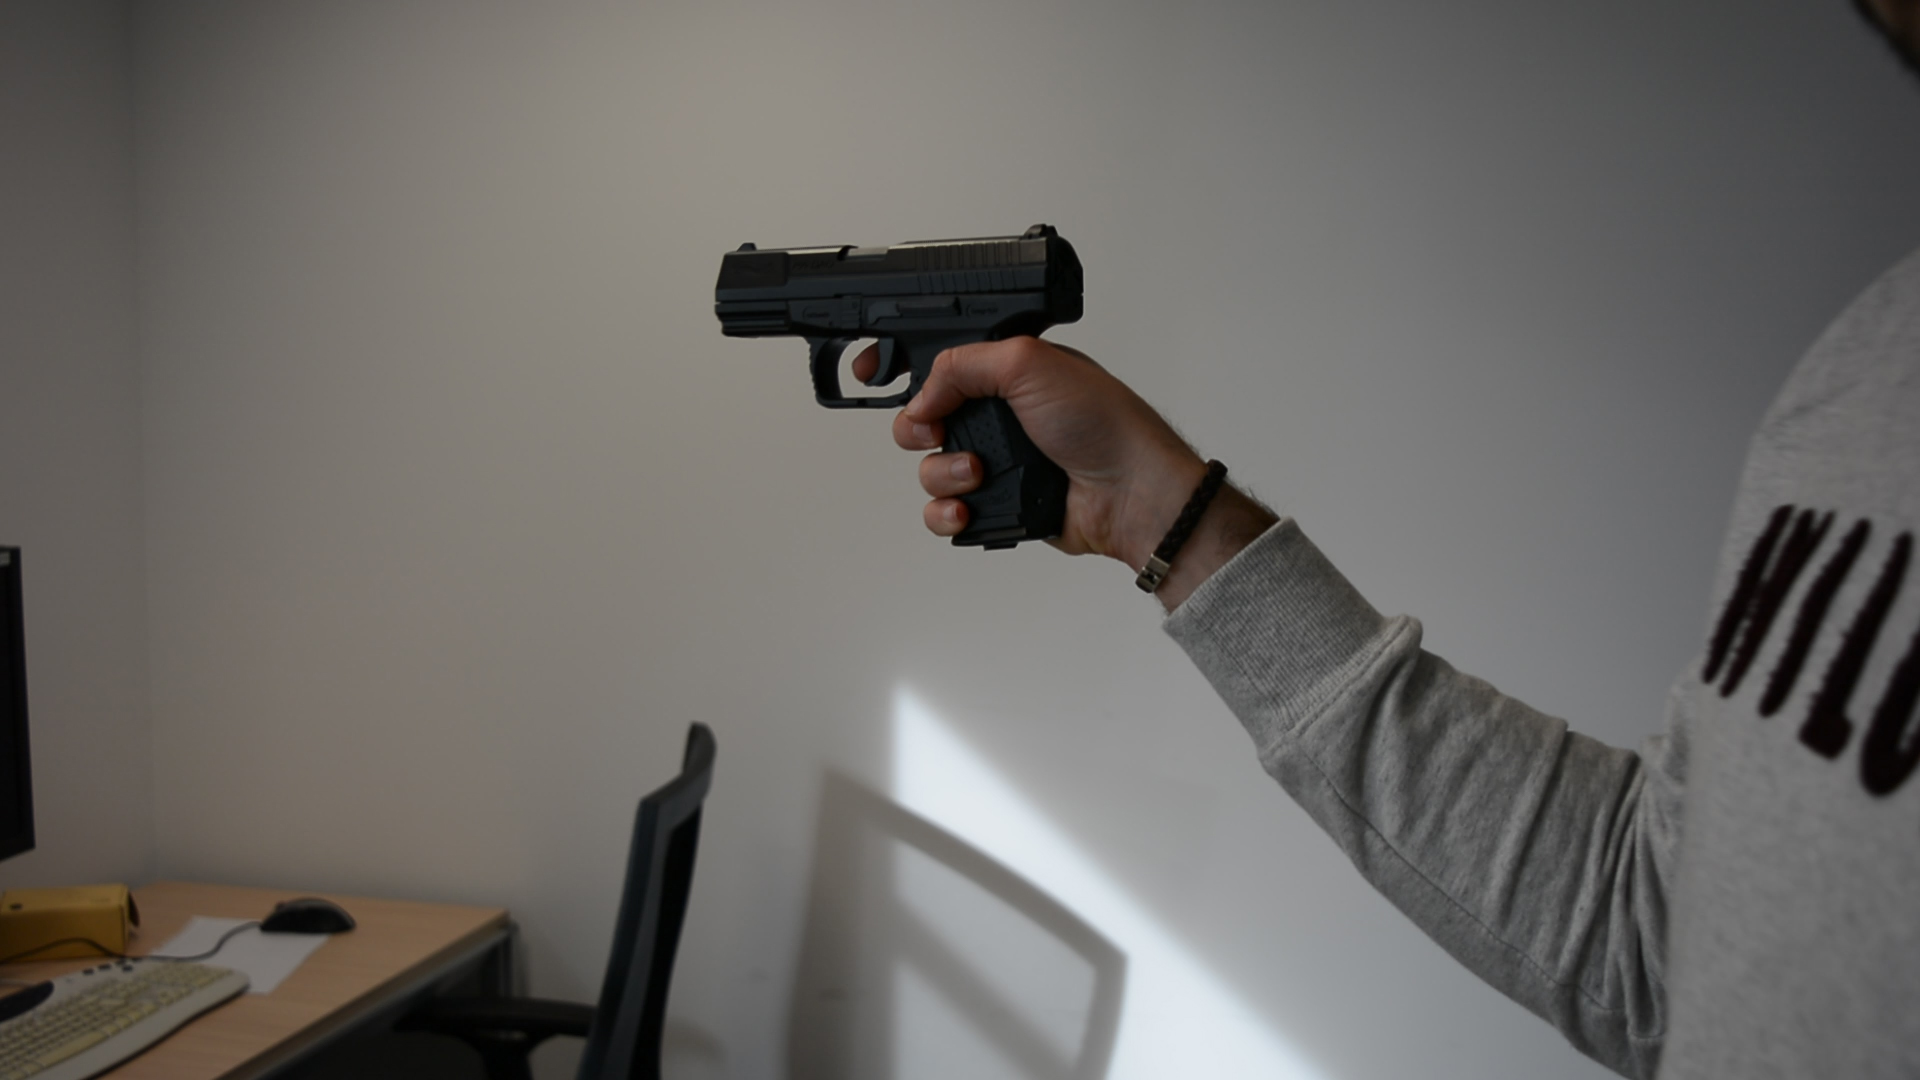pistol: (712, 222, 1087, 553)
